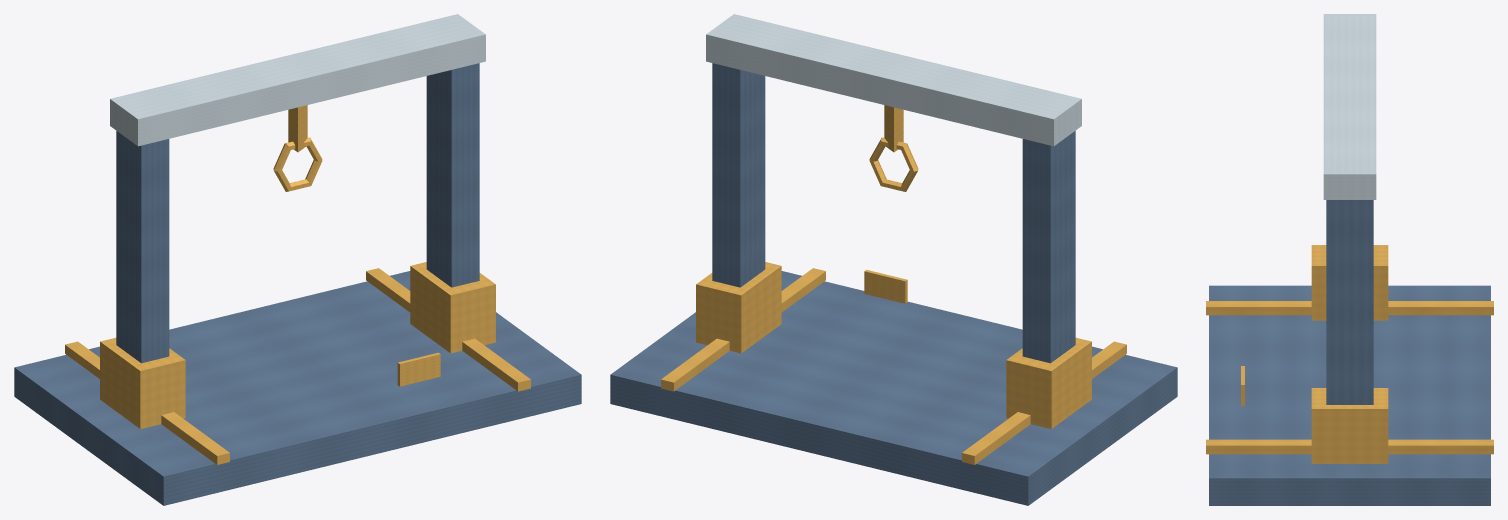
File: atlas100-s058-a02.lod2.glb
3 renders of one model, left to right at view 1: azimuth 30°, elevation 25°; view 2: azimuth 150°, elevation 25°; view 3: azimuth 270°, elevation 25°, orthographic. The views are drawn at different scales.
Parts seen in each view (by area): view 1: atlas100-s058-a02:part-000, atlas100-s058-a02:part-007, atlas100-s058-a02:part-003, atlas100-s058-a02:part-005, atlas100-s058-a02:part-006, atlas100-s058-a02:part-004, atlas100-s058-a02:part-002, atlas100-s058-a02:part-001, atlas100-s058-a02:part-010, atlas100-s058-a02:part-009, atlas100-s058-a02:part-008; view 2: atlas100-s058-a02:part-000, atlas100-s058-a02:part-007, atlas100-s058-a02:part-003, atlas100-s058-a02:part-005, atlas100-s058-a02:part-006, atlas100-s058-a02:part-004, atlas100-s058-a02:part-002, atlas100-s058-a02:part-001, atlas100-s058-a02:part-010, atlas100-s058-a02:part-009, atlas100-s058-a02:part-008; view 3: atlas100-s058-a02:part-000, atlas100-s058-a02:part-007, atlas100-s058-a02:part-005, atlas100-s058-a02:part-006, atlas100-s058-a02:part-002, atlas100-s058-a02:part-001, atlas100-s058-a02:part-004.
Boxes of the visible parts, x1,y1,x2,y2 form: atlas100-s058-a02:part-000: (14, 271, 581, 505); atlas100-s058-a02:part-007: (110, 14, 485, 146); atlas100-s058-a02:part-003: (116, 131, 169, 363); atlas100-s058-a02:part-005: (426, 63, 479, 287); atlas100-s058-a02:part-006: (410, 262, 495, 353); atlas100-s058-a02:part-004: (100, 337, 185, 428); atlas100-s058-a02:part-002: (366, 268, 530, 391); atlas100-s058-a02:part-001: (65, 341, 229, 464); atlas100-s058-a02:part-010: (397, 352, 440, 386); atlas100-s058-a02:part-009: (273, 137, 322, 191); atlas100-s058-a02:part-008: (288, 105, 307, 152); atlas100-s058-a02:part-000: (610, 271, 1177, 505); atlas100-s058-a02:part-007: (706, 14, 1081, 146); atlas100-s058-a02:part-003: (1022, 131, 1075, 363); atlas100-s058-a02:part-005: (712, 63, 765, 287); atlas100-s058-a02:part-006: (696, 262, 781, 353); atlas100-s058-a02:part-004: (1006, 337, 1091, 428); atlas100-s058-a02:part-002: (661, 268, 825, 391); atlas100-s058-a02:part-001: (962, 341, 1126, 464); atlas100-s058-a02:part-010: (864, 269, 907, 303); atlas100-s058-a02:part-009: (869, 137, 918, 191); atlas100-s058-a02:part-008: (884, 105, 903, 152); atlas100-s058-a02:part-000: (1209, 285, 1490, 505); atlas100-s058-a02:part-007: (1323, 14, 1376, 199); atlas100-s058-a02:part-005: (1326, 200, 1373, 404); atlas100-s058-a02:part-006: (1311, 388, 1388, 463); atlas100-s058-a02:part-002: (1206, 439, 1493, 454); atlas100-s058-a02:part-001: (1206, 301, 1493, 315); atlas100-s058-a02:part-004: (1311, 245, 1388, 320).
Bounding box in the file's own units: 3.88 × 2.96 × 2.45.
Materials: 3 (3 with a texture image).
